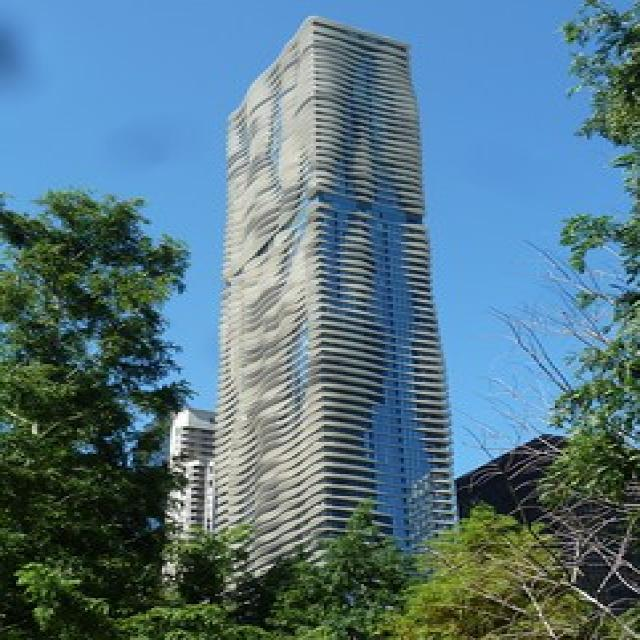building: (156, 7, 472, 577)
